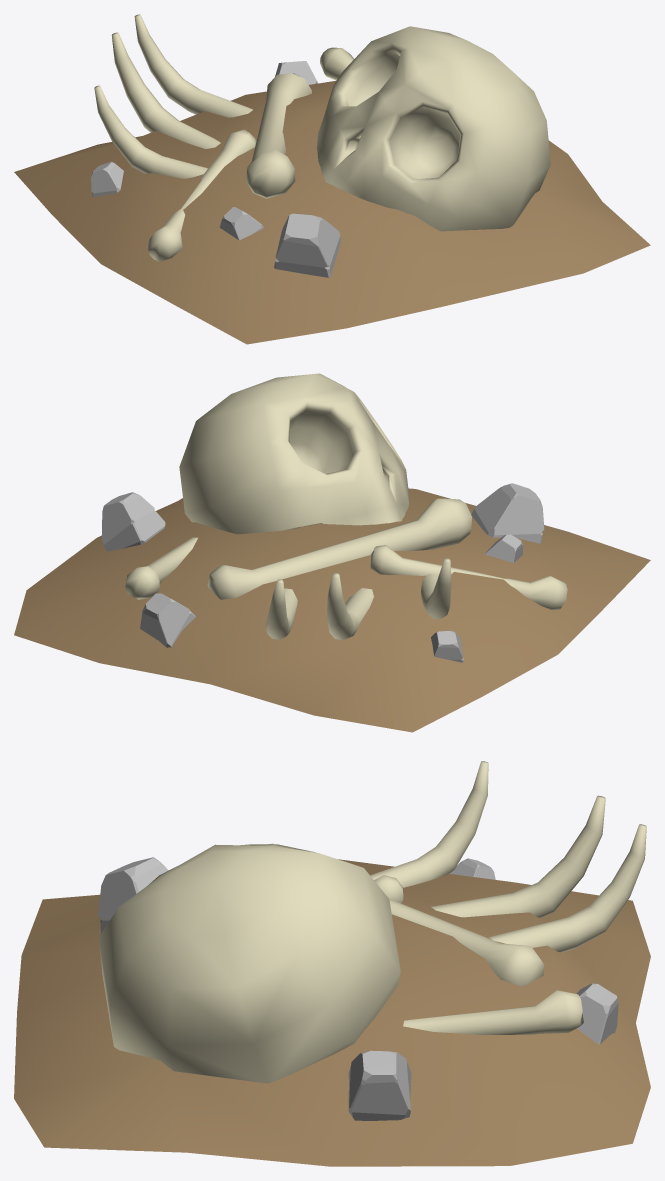
File: BonesBox_4.fbx
3 views of the same model, one above another, from view 1: azimuth 30°, elevation 25°; view 2: azimuth 150°, elevation 25°; view 3: azimuth 270°, elevation 25° (orthographic). The views are drawn at different scales.
Parts seen in each view (by area): view 1: bones.003; view 2: bones.003; view 3: bones.003.
Boxes of the visible parts, x1=… form: bones.003: x1=14, y1=14, x2=650, y2=344; bones.003: x1=14, y1=373, x2=650, y2=732; bones.003: x1=14, y1=761, x2=650, y2=1166.
Size of the model in its own units: 428 by 156 by 406.
